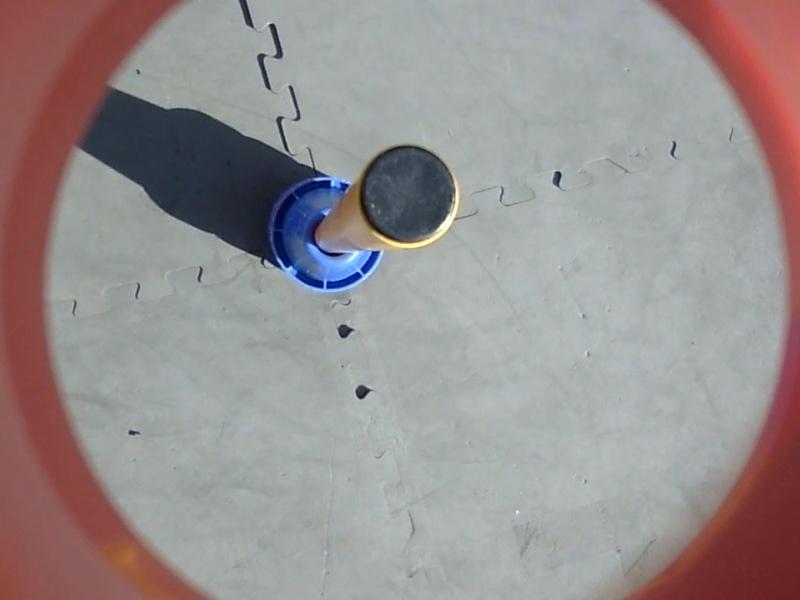tip: (354, 141, 467, 252)
